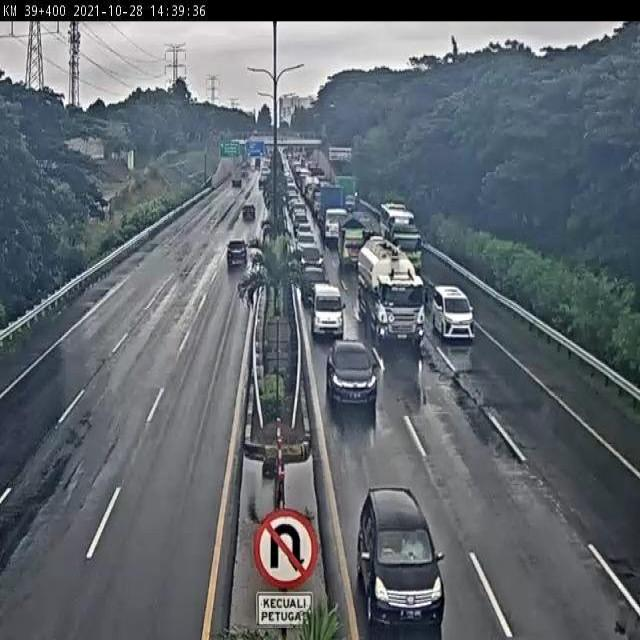big bus: (379, 201, 415, 243)
big truck: (359, 242, 416, 330)
car: (352, 450, 439, 626), (321, 318, 374, 394), (414, 276, 458, 319), (311, 277, 341, 332), (216, 233, 254, 266), (301, 256, 330, 296), (238, 192, 266, 232), (334, 222, 357, 258), (299, 243, 323, 268), (238, 205, 255, 235), (298, 228, 318, 245)
small truck: (380, 224, 418, 267), (320, 189, 350, 239)
